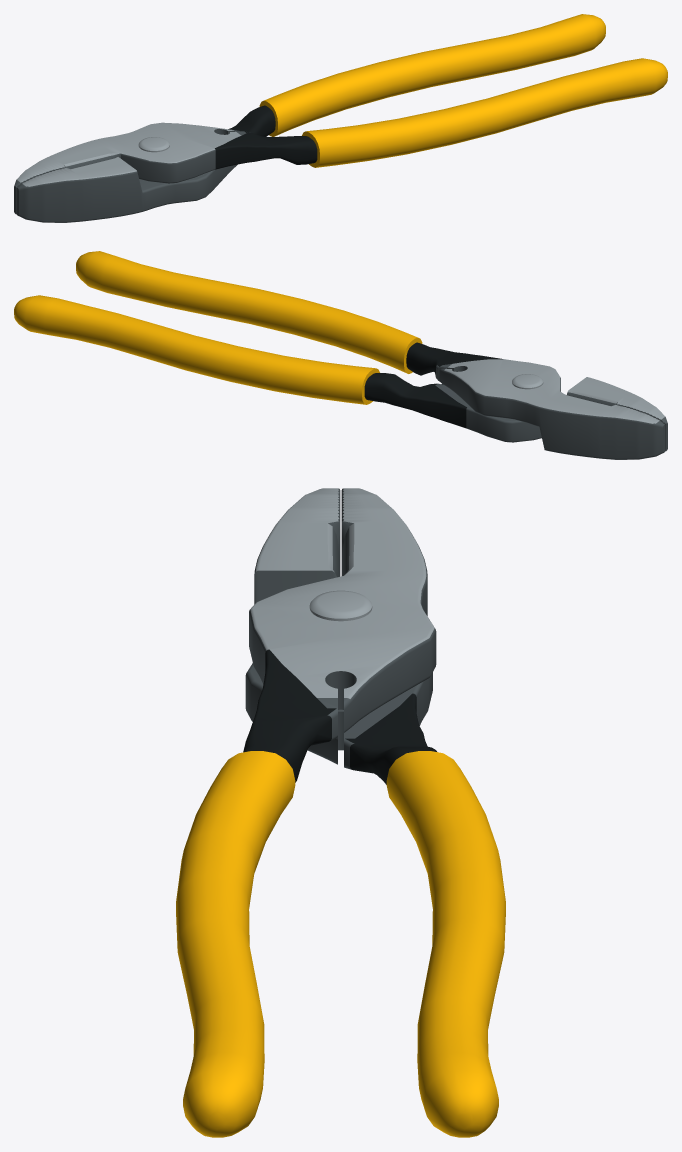
The picture shows the model from 3 angles, top to bottom: view 1: azimuth 30°, elevation 25°; view 2: azimuth 150°, elevation 25°; view 3: azimuth 270°, elevation 25°; orthographic projection. The views are drawn at different scales.
Visible parts, largest first — view 1: part_008_lower_dipped_grip, part_003_upper_dipped_grip, part_005_lower_jaw_upper_tang, part_001_upper_jaw_lower_tang, part_002_upper_jaw_lower_tang, part_000_upper_jaw_lower_tang, part_006_lower_jaw_upper_tang, part_007_lower_jaw_upper_tang, part_004_pivot_rivet; view 2: part_003_upper_dipped_grip, part_008_lower_dipped_grip, part_000_upper_jaw_lower_tang, part_001_upper_jaw_lower_tang, part_007_lower_jaw_upper_tang, part_005_lower_jaw_upper_tang, part_006_lower_jaw_upper_tang, part_002_upper_jaw_lower_tang, part_004_pivot_rivet; view 3: part_003_upper_dipped_grip, part_008_lower_dipped_grip, part_001_upper_jaw_lower_tang, part_000_upper_jaw_lower_tang, part_002_upper_jaw_lower_tang, part_005_lower_jaw_upper_tang, part_006_lower_jaw_upper_tang, part_007_lower_jaw_upper_tang, part_004_pivot_rivet.
Boxes of the visible parts, x1,y1,x2,y2 form: part_008_lower_dipped_grip: (302, 58, 667, 167); part_003_upper_dipped_grip: (259, 14, 605, 136); part_005_lower_jaw_upper_tang: (16, 164, 237, 222); part_001_upper_jaw_lower_tang: (17, 122, 241, 182); part_002_upper_jaw_lower_tang: (215, 131, 317, 169); part_000_upper_jaw_lower_tang: (14, 129, 246, 214); part_006_lower_jaw_upper_tang: (22, 157, 196, 222); part_007_lower_jaw_upper_tang: (228, 105, 275, 136); part_004_pivot_rivet: (138, 137, 169, 152); part_003_upper_dipped_grip: (14, 295, 379, 404); part_008_lower_dipped_grip: (76, 251, 422, 373); part_000_upper_jaw_lower_tang: (436, 364, 665, 459); part_001_upper_jaw_lower_tang: (444, 359, 659, 459); part_007_lower_jaw_upper_tang: (364, 373, 466, 428); part_005_lower_jaw_upper_tang: (430, 383, 667, 451); part_006_lower_jaw_upper_tang: (507, 377, 664, 442); part_002_upper_jaw_lower_tang: (406, 342, 502, 376); part_004_pivot_rivet: (512, 374, 543, 389); part_003_upper_dipped_grip: (386, 751, 505, 1137); part_008_lower_dipped_grip: (176, 751, 295, 1137); part_001_upper_jaw_lower_tang: (250, 488, 434, 698); part_000_upper_jaw_lower_tang: (249, 488, 436, 740); part_002_upper_jaw_lower_tang: (243, 649, 336, 782); part_005_lower_jaw_upper_tang: (245, 488, 432, 769); part_006_lower_jaw_upper_tang: (256, 488, 339, 759); part_007_lower_jaw_upper_tang: (345, 693, 436, 784); part_004_pivot_rivet: (309, 590, 372, 621).
Bounding box in the file's own units: 0.24 × 0.0184 × 0.0555.
